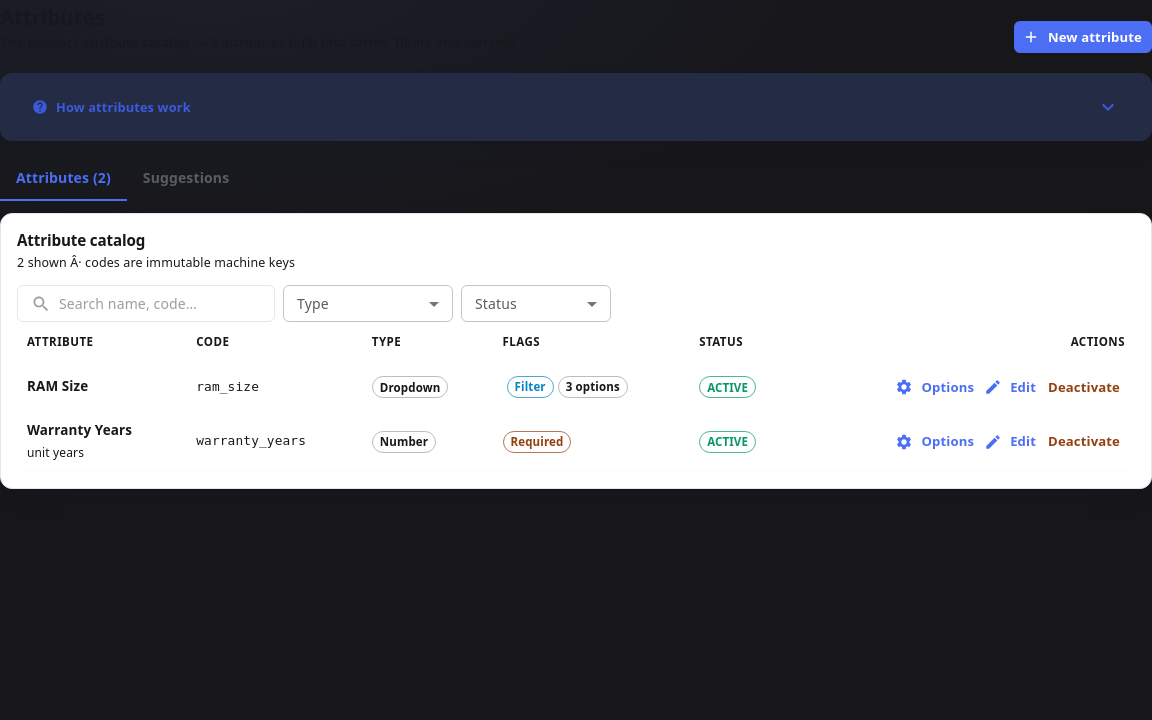
Test: CatalogAttributesView (admin) › opens the create dialog from New attribute
Click the button "New attribute": (1083, 38) [1014,22,1151,54]
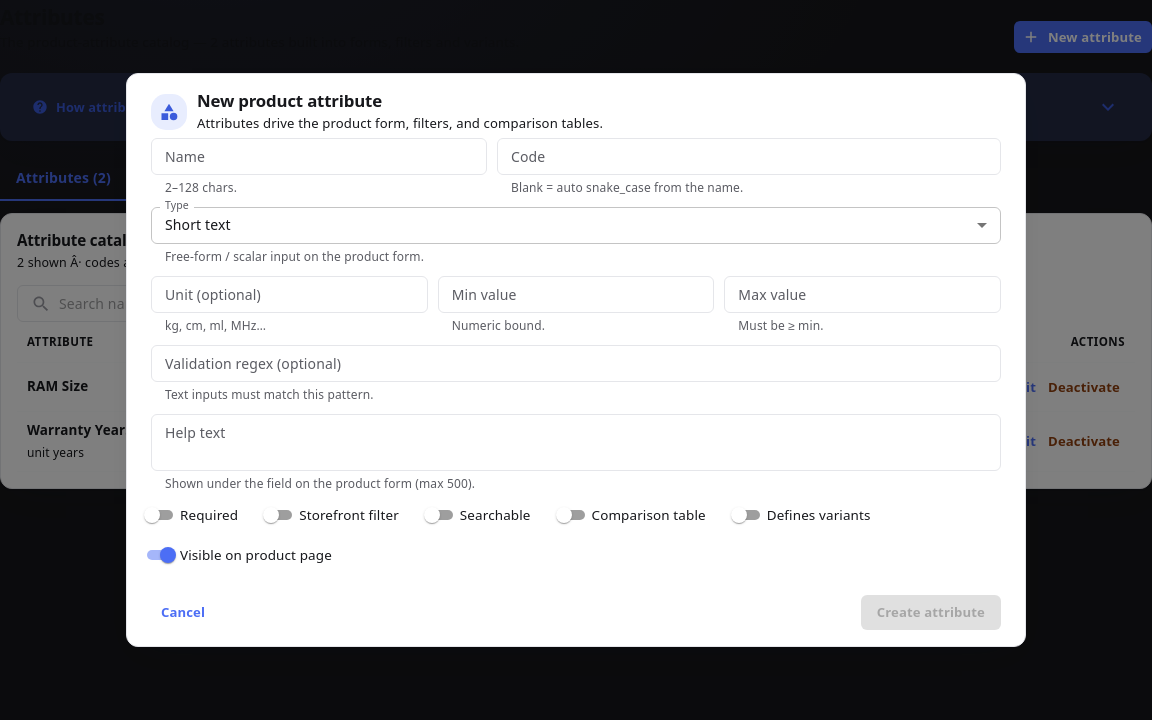
expect the heading "New product attribute" is shown: met, box [197,89,382,112]
expect the text "Defines variants" is shown: met, box [767,504,871,526]
